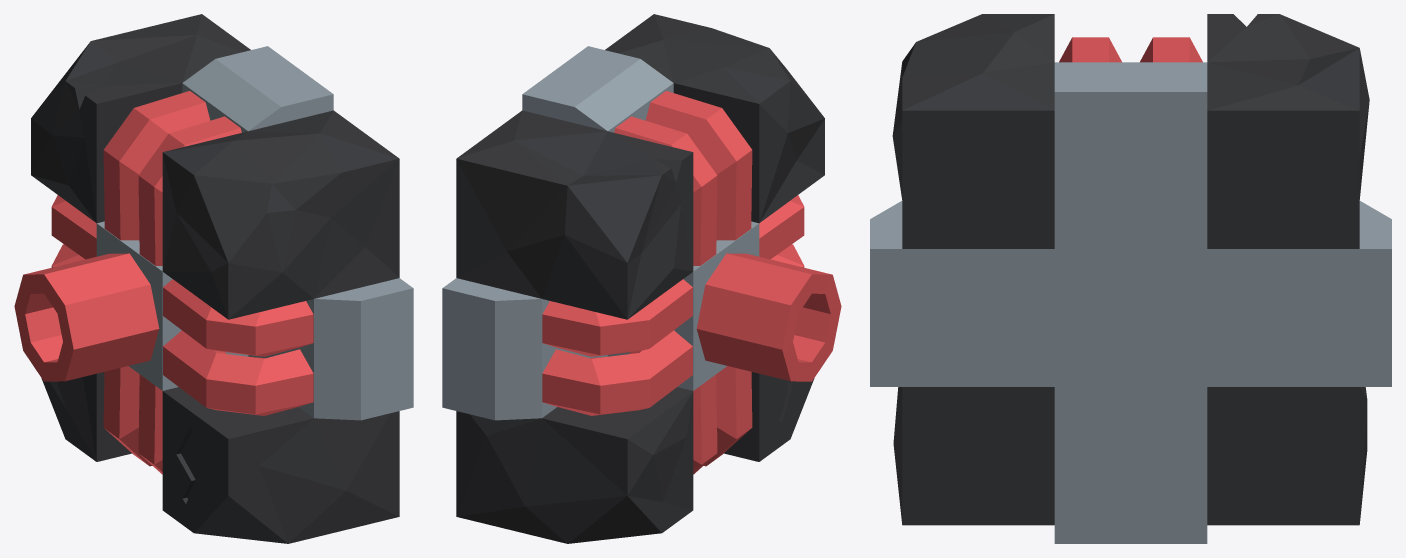
File: Fire_Trap.fbx
3 views of the same model, side by side, from view 1: azimuth 30°, elevation 25°; view 2: azimuth 150°, elevation 25°; view 3: azimuth 270°, elevation 25° (orthographic). The views are drawn at different scales.
Visible parts, largest first — view 1: Fire Trap; view 2: Fire Trap; view 3: Fire Trap.
Part boxes in pixels (x1,y1,x2,y2): Fire Trap: [14, 14, 413, 543]; Fire Trap: [442, 14, 841, 543]; Fire Trap: [870, 14, 1391, 543].
Bounding box in the file's own units: 1.5 × 2.18 × 2.28.
